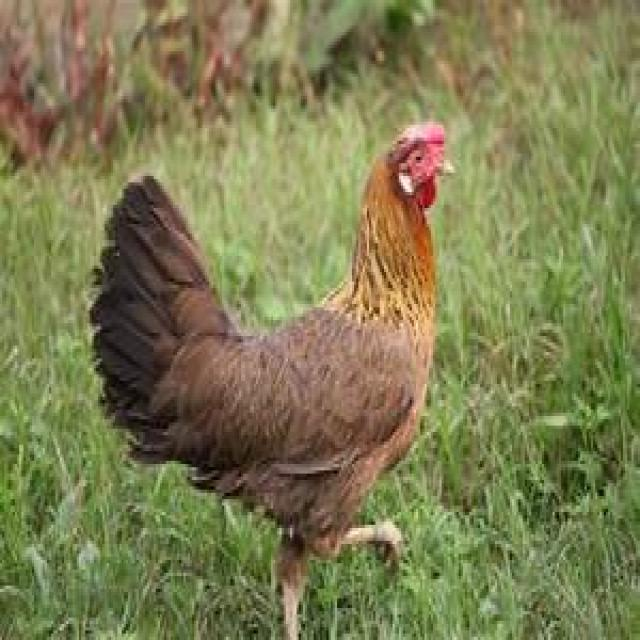hen: (91, 126, 444, 638)
